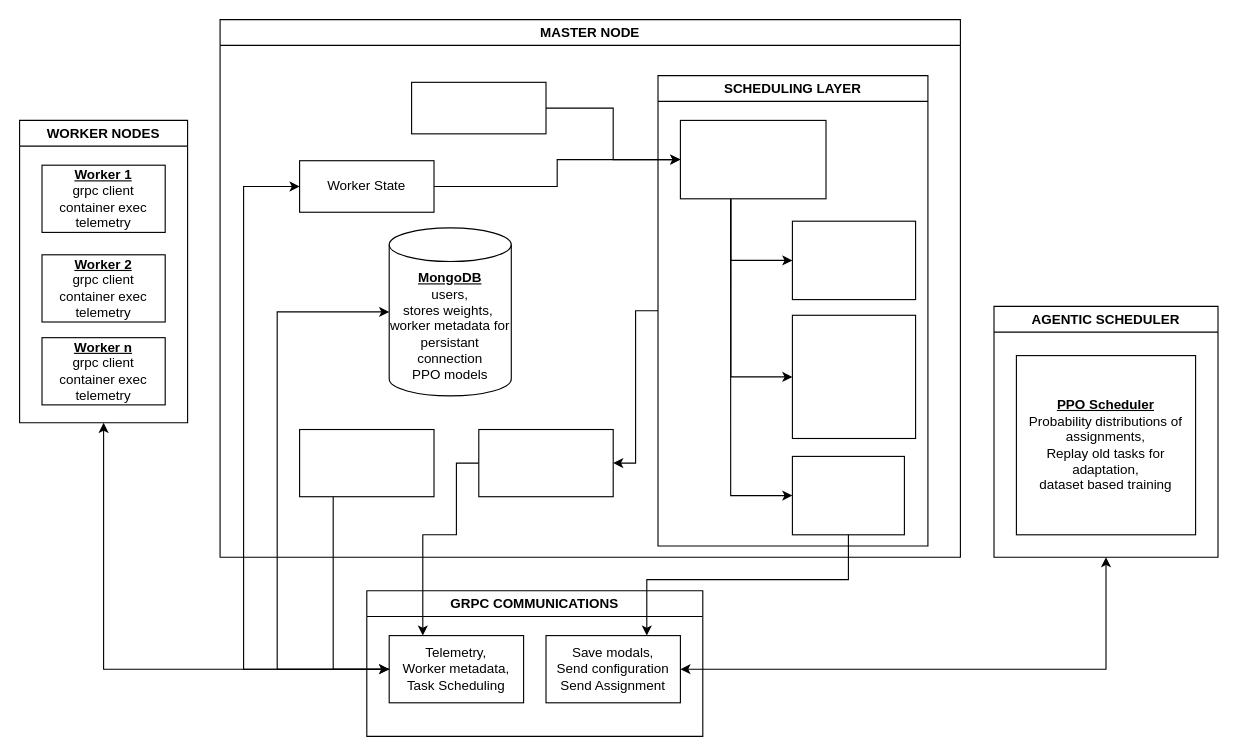
Some shapes in this 1238 by 756 pixel diagram are drawn without their labels. The shapes that lost their labels are listed below. From the top down, each one's centre as x and y in pixels, then its label:
At point 478,107: "Incoming Tasks".
At point 752,159: "Scheduler load state and config algorithm selection, worker selection,".
At point 853,260: "Round Robin".
At point 853,376: "Heuristic-based".
At point 366,462: "Telemetry Manager and retry mechanism".
At point 545,462: "Scheduling Outcome".
At point 847,495: "PPO ALGORITHM".
